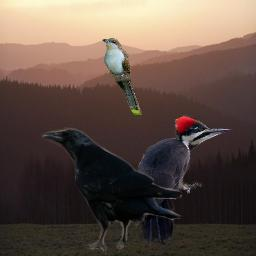Crow: (41, 127, 182, 255)
Cuckoo: (102, 38, 142, 115)
Woodpecker: (124, 115, 232, 242)
